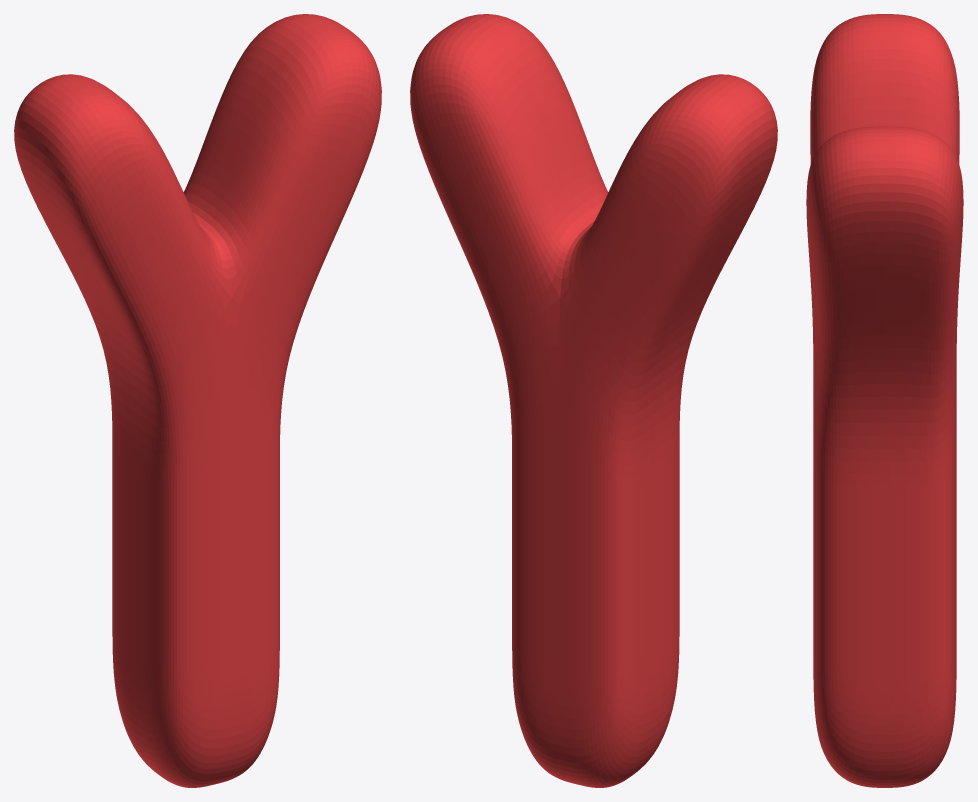
Rendered from antibody.fbx.
3 views of the same model, side by side, from view 1: azimuth 30°, elevation 25°; view 2: azimuth 150°, elevation 25°; view 3: azimuth 270°, elevation 25° (orthographic). The views are drawn at different scales.
Visible parts, largest first — view 1: Cube; view 2: Cube; view 3: Cube.
Part boxes in pixels (x1=…): Cube: x1=14, y1=14, x2=381, y2=787; Cube: x1=410, y1=14, x2=777, y2=787; Cube: x1=806, y1=14, x2=963, y2=787.
Size of the model in its own units: 83.66 by 176 by 35.48.
